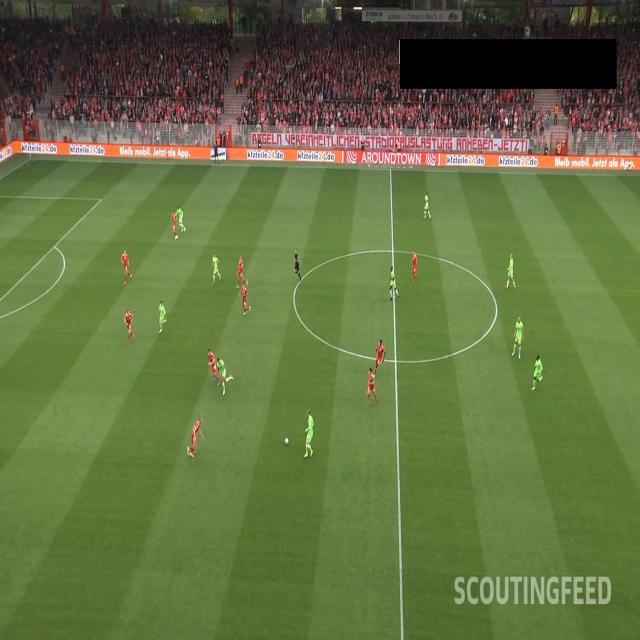ball: (284, 437, 289, 446)
